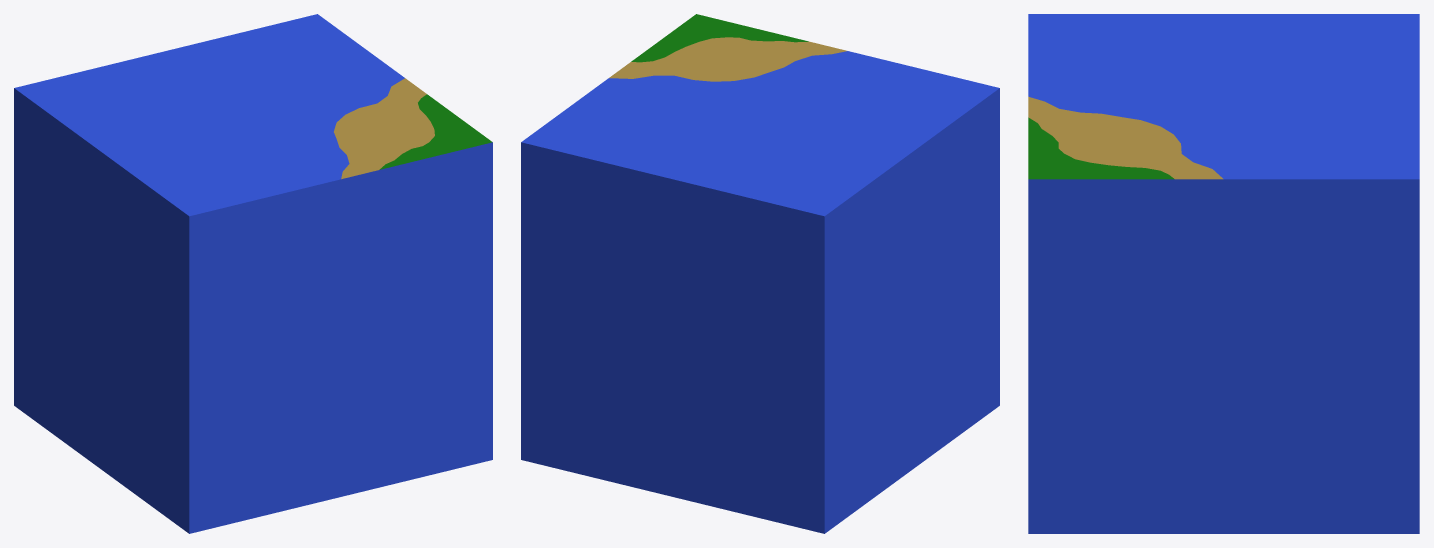
Rendered from CoastCorner2.fbx.
3 renders of one model, left to right at view 1: azimuth 30°, elevation 25°; view 2: azimuth 150°, elevation 25°; view 3: azimuth 270°, elevation 25°, orthographic. The views are drawn at different scales.
Visible parts, largest first — view 1: Cube.006; view 2: Cube.006; view 3: Cube.006.
Part boxes in pixels (x1,y1,x2,y2): Cube.006: [14, 14, 492, 533]; Cube.006: [521, 14, 999, 533]; Cube.006: [1028, 14, 1419, 533].
Size of the model in its own units: 100 by 100 by 100.
